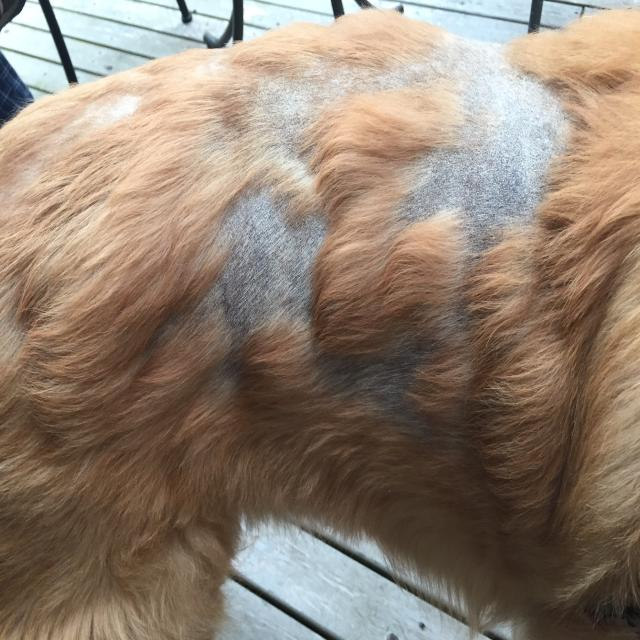fungal infection: (222, 174, 318, 327), (472, 69, 568, 197), (404, 149, 542, 229), (320, 40, 498, 93), (334, 341, 419, 403), (270, 78, 316, 134), (429, 308, 480, 344), (406, 412, 456, 443), (456, 231, 502, 253)
